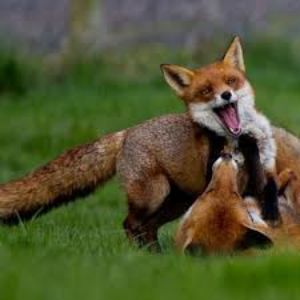fox: (42, 54, 281, 220), (183, 158, 286, 269)
